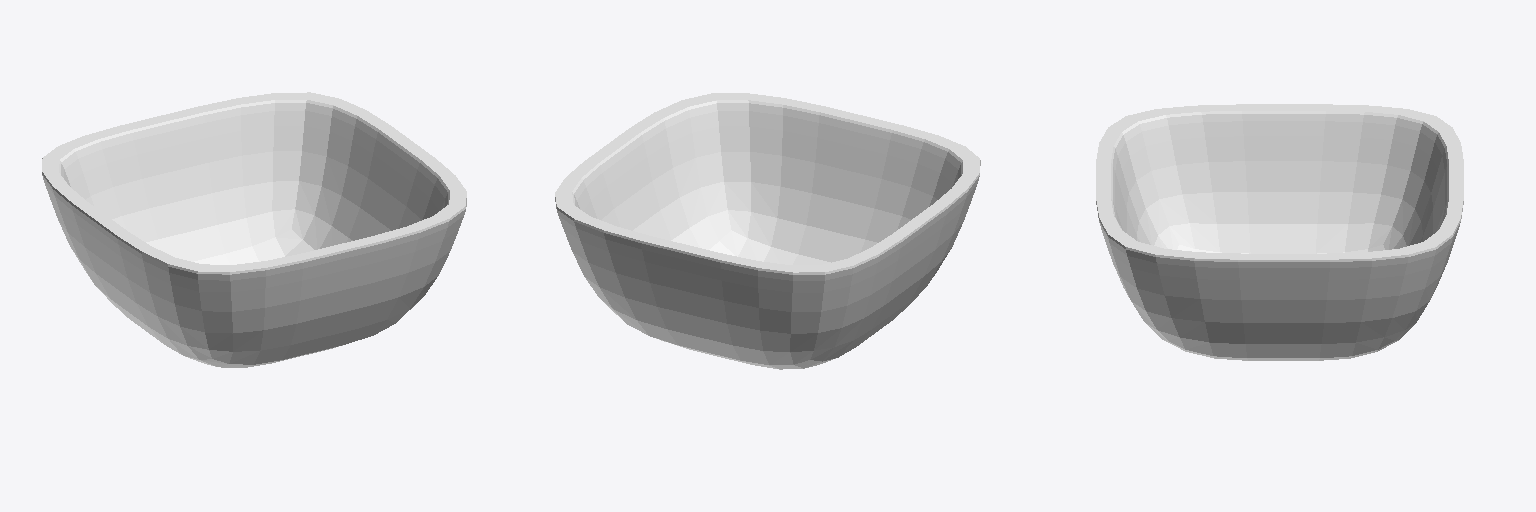
The model's file is Bowls.obj.
3 views of the same model, side by side, from view 1: azimuth 30°, elevation 25°; view 2: azimuth 150°, elevation 25°; view 3: azimuth 270°, elevation 25° (orthographic).
Parts seen in each view (by area): view 1: pCube1; view 2: pCube1; view 3: pCube1.
Boxes of the visible parts, x1,y1,x2,y2 form: pCube1: [42, 92, 466, 367]; pCube1: [555, 93, 980, 369]; pCube1: [1096, 104, 1463, 360].
Size of the model in its own units: 1.2 by 0.5296 by 1.2.